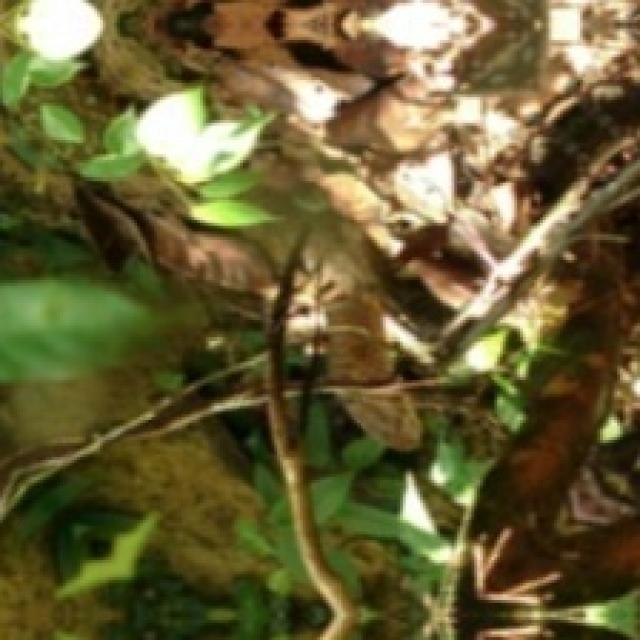king cobra: (322, 282, 398, 385), (338, 390, 422, 449)
